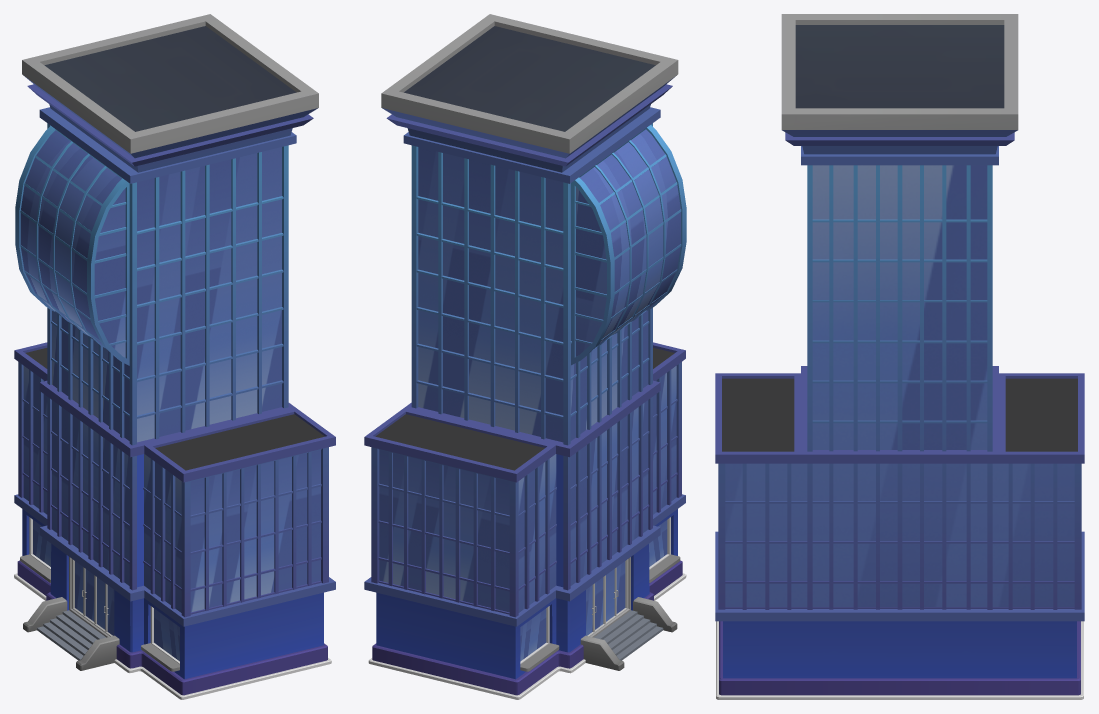
Rendered from Building_15_J.glb.
The picture shows the model from 3 angles, left to right: view 1: azimuth 30°, elevation 25°; view 2: azimuth 150°, elevation 25°; view 3: azimuth 270°, elevation 25°; orthographic projection. The views are drawn at different scales.
Parts seen in each view (by area): view 1: Building_15_J; view 2: Building_15_J; view 3: Building_15_J.
Part boxes in pixels (x1=…): Building_15_J: x1=14, y1=14, x2=335, y2=699; Building_15_J: x1=364, y1=14, x2=686, y2=699; Building_15_J: x1=715, y1=14, x2=1084, y2=699.
Bounding box in the file's own units: 8.6 × 21 × 11.83.
4 materials, 4 textured.
